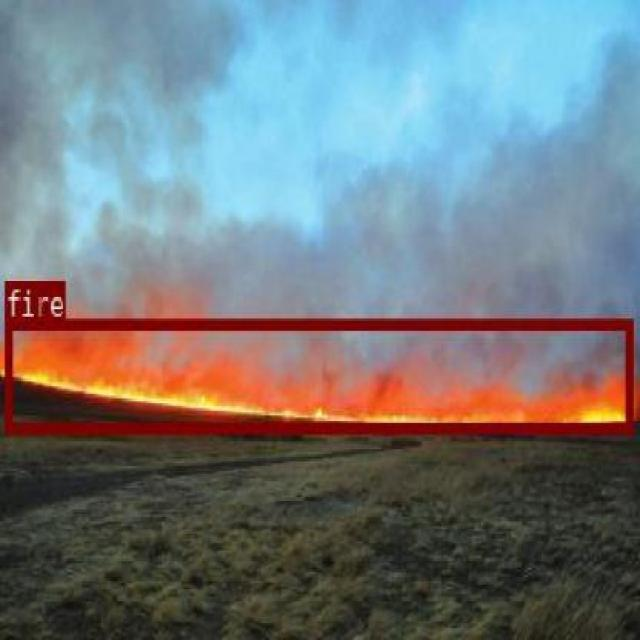Fire: (317, 113, 628, 374)
